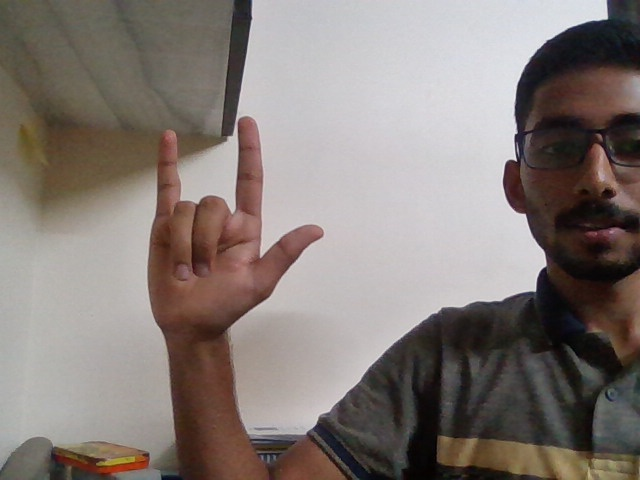Enjoy: (133, 108, 339, 372)
